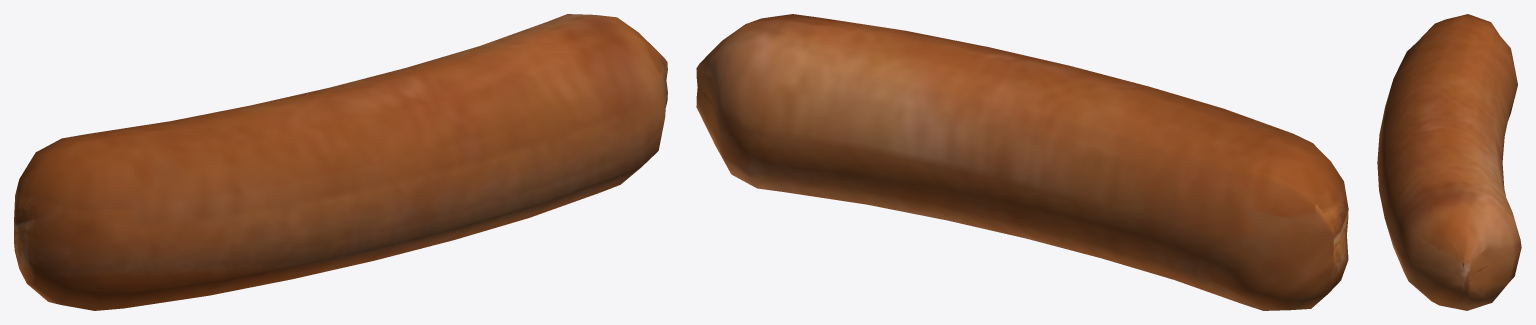
Rendered from wiener.fbx.
The picture shows the model from 3 angles, left to right: view 1: azimuth 30°, elevation 25°; view 2: azimuth 150°, elevation 25°; view 3: azimuth 270°, elevation 25°; orthographic projection. The views are drawn at different scales.
Visible parts, largest first — view 1: wiener; view 2: wiener; view 3: wiener.
Boxes of the visible parts, bbox=[...] form: wiener: bbox=[14, 14, 667, 310]; wiener: bbox=[696, 14, 1348, 310]; wiener: bbox=[1377, 14, 1521, 310].
Size of the model in its own units: 6.32 by 1.52 by 1.74.
